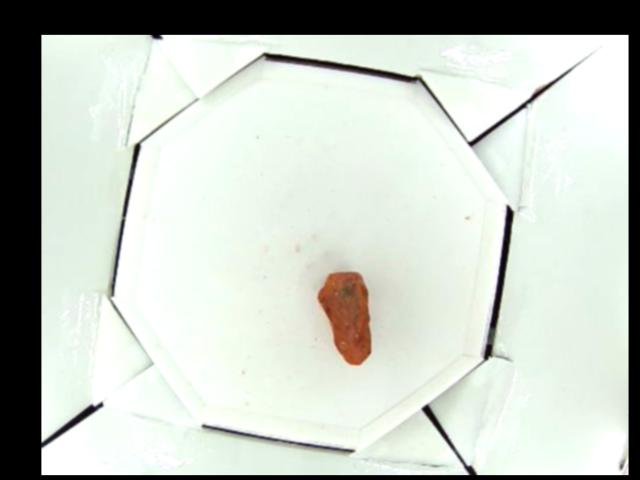Brisk: (320, 270, 369, 365)
